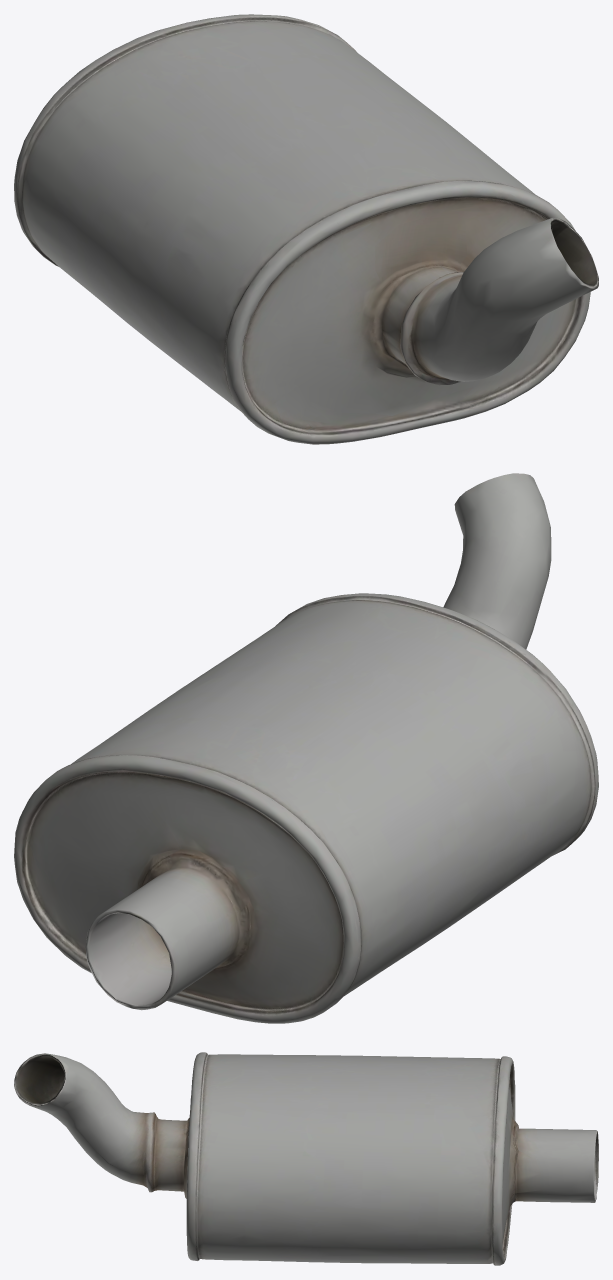
The model's file is exhaust-pipe-muffler.glb.
3 views of the same model, one above another, from view 1: azimuth 30°, elevation 25°; view 2: azimuth 150°, elevation 25°; view 3: azimuth 270°, elevation 25° (orthographic). The views are drawn at different scales.
Visible parts, largest first — view 1: tripo_node_ed1bbe82-c8f7-497c-a206-937c44bb27a9; view 2: tripo_node_ed1bbe82-c8f7-497c-a206-937c44bb27a9; view 3: tripo_node_ed1bbe82-c8f7-497c-a206-937c44bb27a9.
Boxes of the visible parts, x1,y1,x2,y2 form: tripo_node_ed1bbe82-c8f7-497c-a206-937c44bb27a9: [14, 14, 598, 444]; tripo_node_ed1bbe82-c8f7-497c-a206-937c44bb27a9: [14, 473, 598, 1023]; tripo_node_ed1bbe82-c8f7-497c-a206-937c44bb27a9: [14, 1052, 598, 1265].
Bounding box in the file's own units: 0.4882 × 0.3564 × 1.
Materials: 1 (1 with a texture image).
